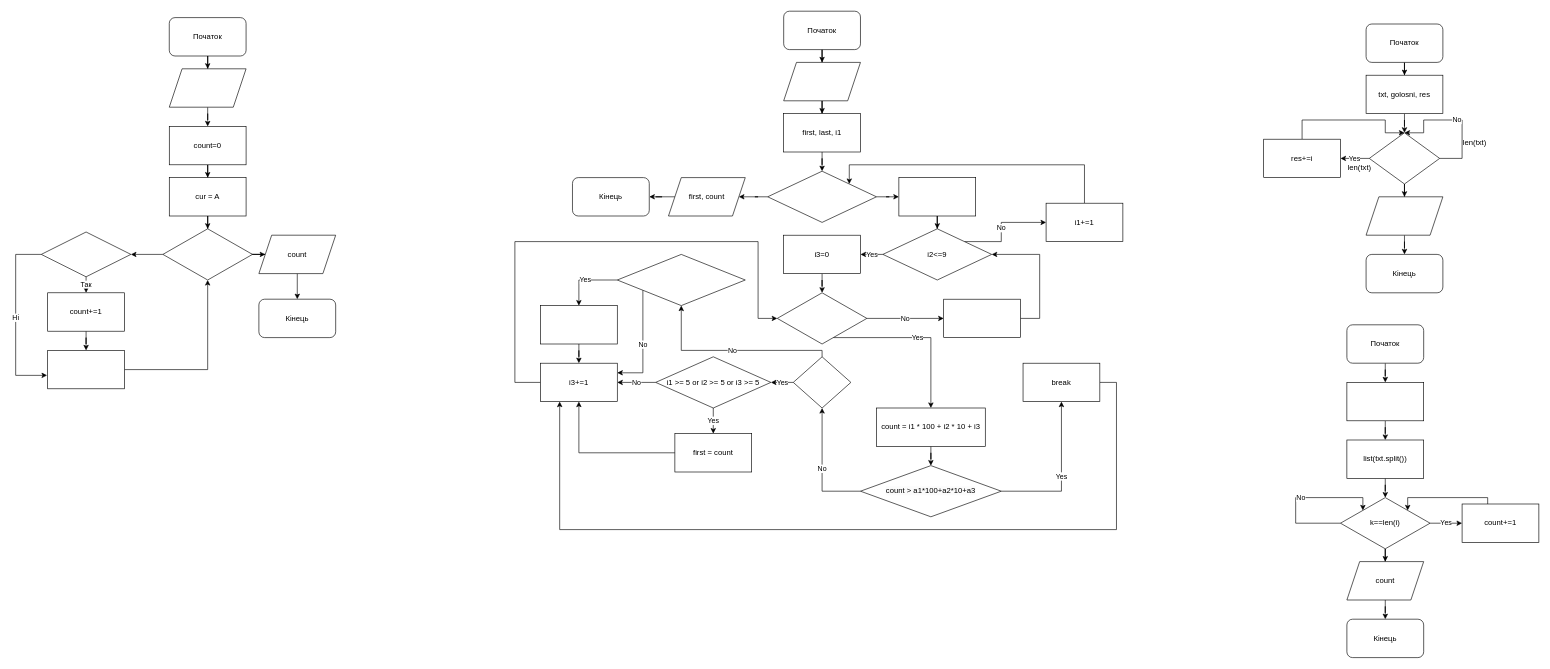
The diagram is 1550 pixels wide and 669 high, and some of its shapes have lost their labels. The shapes that lost their labels are listed below. From the top down, each one's centre as x and y in pixels, then its label:
At pixel 207 87: "A, B".
At pixel 821 81: "a1, a2, a3".
At pixel 1404 158: "Якщо немає голосних".
At pixel 821 196: "i1<=9".
At pixel 937 196: "i2=0".
At pixel 1404 215: "res".
At pixel 86 254: "Якщо (A*B)%==0".
At pixel 207 254: "cur<=B".
At pixel 681 280: "if i1 == 5 or i2 == 5 or i3 == 5".
At pixel 578 324: "last = count".
At pixel 822 318: "i3<=9".
At pixel 981 318: "i2+=1".
At pixel 85 369: "cur+=1".
At pixel 822 382: "first == 0".
At pixel 1385 401: "txt, count, k".
